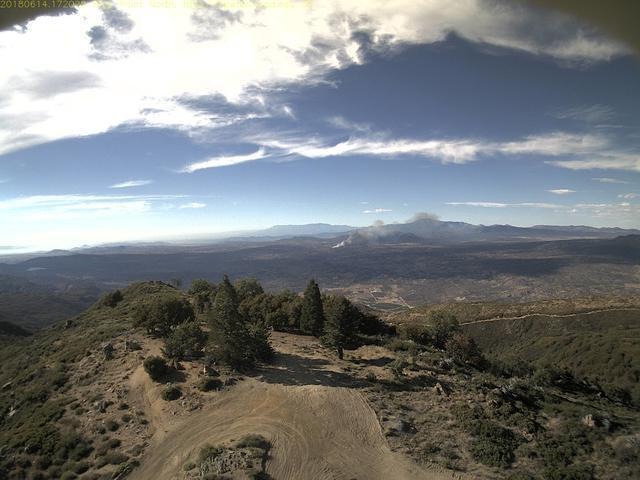Smoke: (326, 205, 442, 254)
